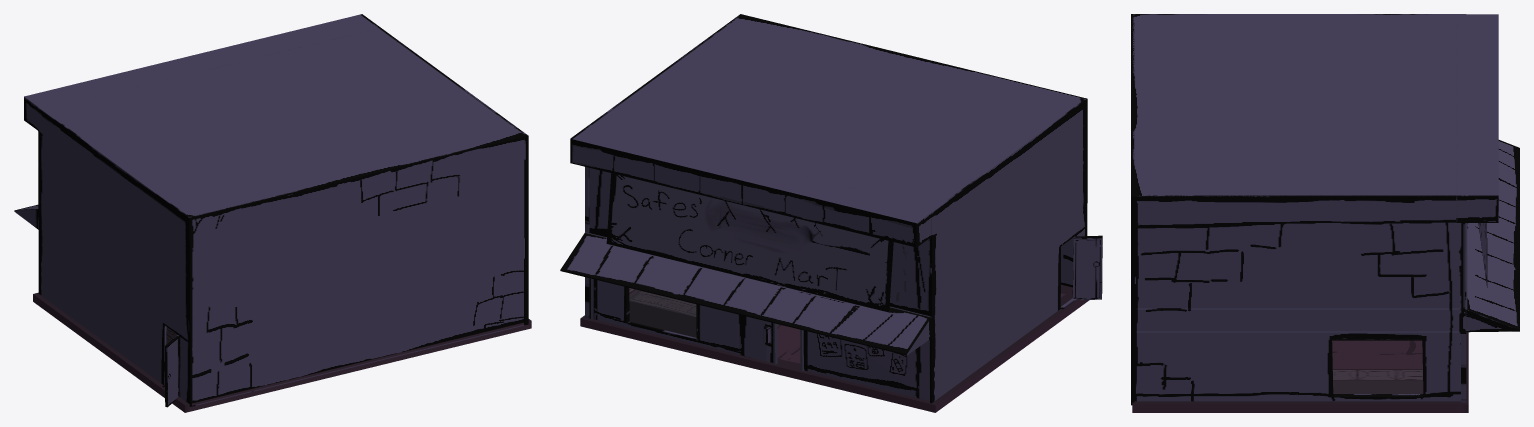
File: NewCornerstore.fbx
3 views of the same model, side by side, from view 1: azimuth 30°, elevation 25°; view 2: azimuth 150°, elevation 25°; view 3: azimuth 270°, elevation 25° (orthographic). The views are drawn at different scales.
Parts seen in each view (by area): view 1: corner store, Floor; view 2: corner store, Floor, food/cats; view 3: corner store, Floor, mags.
Boxes of the visible parts, x1,y1,x2,y2 form: corner store: (14,14,528,407); Floor: (33,292,531,412); corner store: (560,14,1102,403); Floor: (580,284,1089,412); food/cats: (629,290,696,337); corner store: (1131,14,1519,405); Floor: (1132,332,1468,412); mags: (1332,369,1423,393).
Size of the model in its own units: 567 by 290 by 477.
